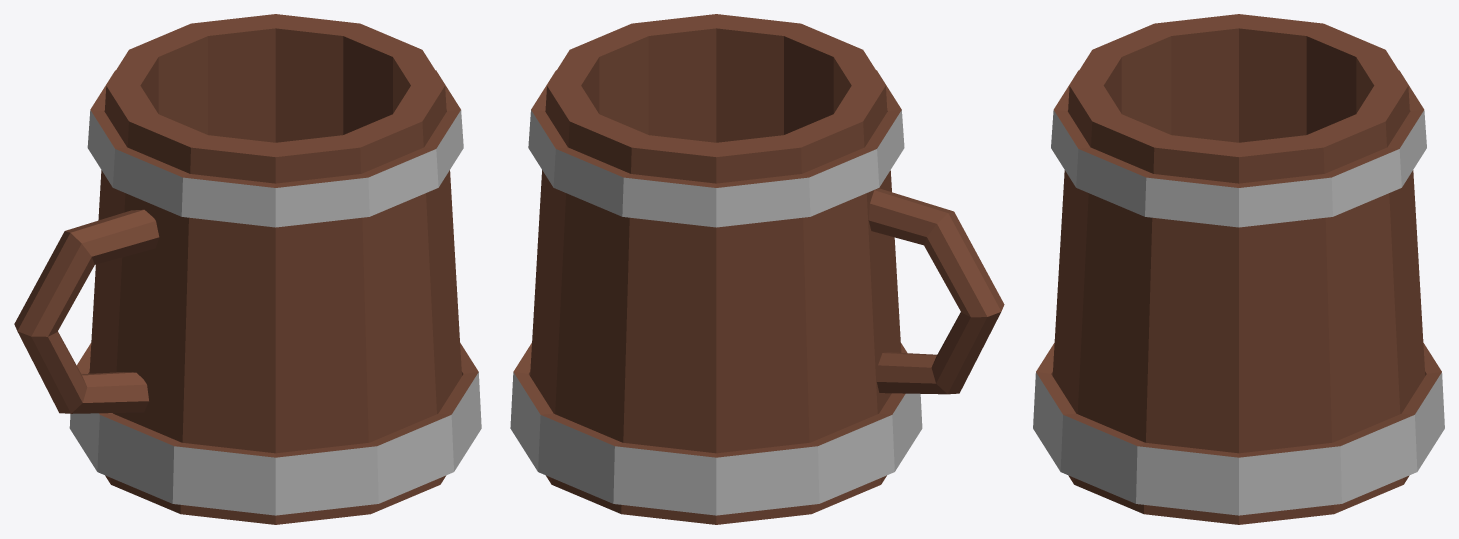
File: WineCup.fbx
3 views of the same model, side by side, from view 1: azimuth 30°, elevation 25°; view 2: azimuth 150°, elevation 25°; view 3: azimuth 270°, elevation 25° (orthographic).
Visible parts, largest first — view 1: WineCup; view 2: WineCup; view 3: WineCup.
Part boxes in pixels (box(x1,y1,x2,y2)): WineCup: box(14, 14, 481, 524); WineCup: box(510, 14, 1004, 524); WineCup: box(1033, 14, 1444, 524).
Bounding box in the file's own units: 67.8 × 51.67 × 53.75.
